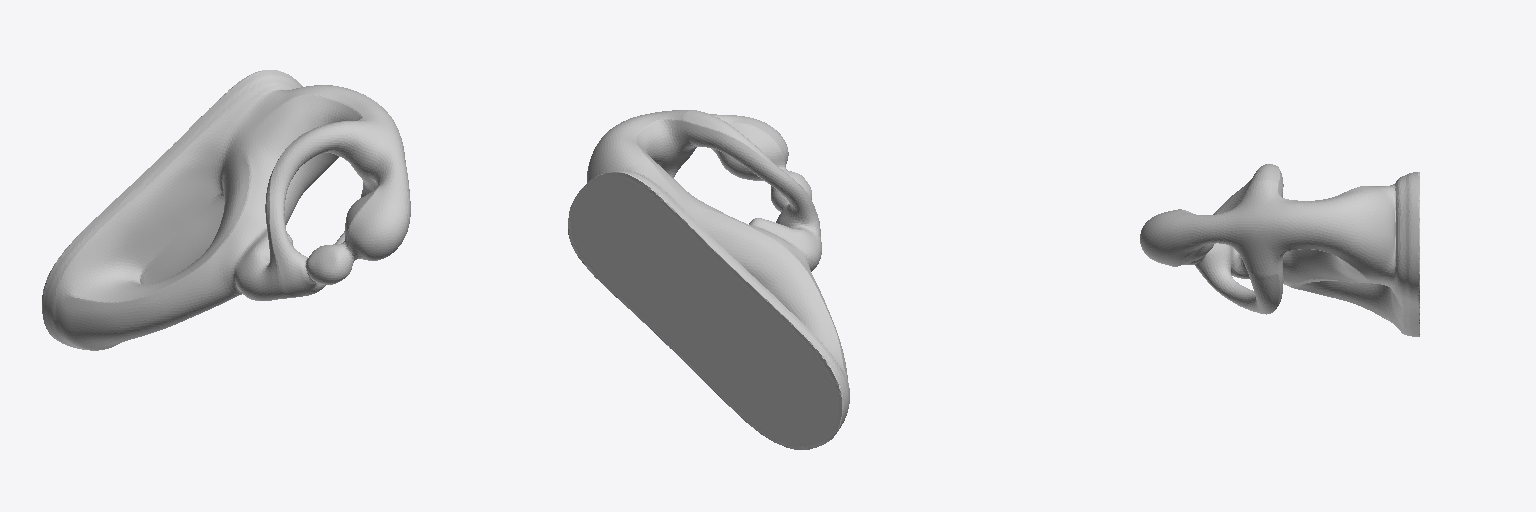
Rendered from motherChild_20k.obj.
The picture shows the model from 3 angles: view 1: azimuth 30°, elevation 25°; view 2: azimuth 150°, elevation 25°; view 3: azimuth 270°, elevation 25°; orthographic projection.
Bounding box in the file's own units: 125 × 98.27 × 105.